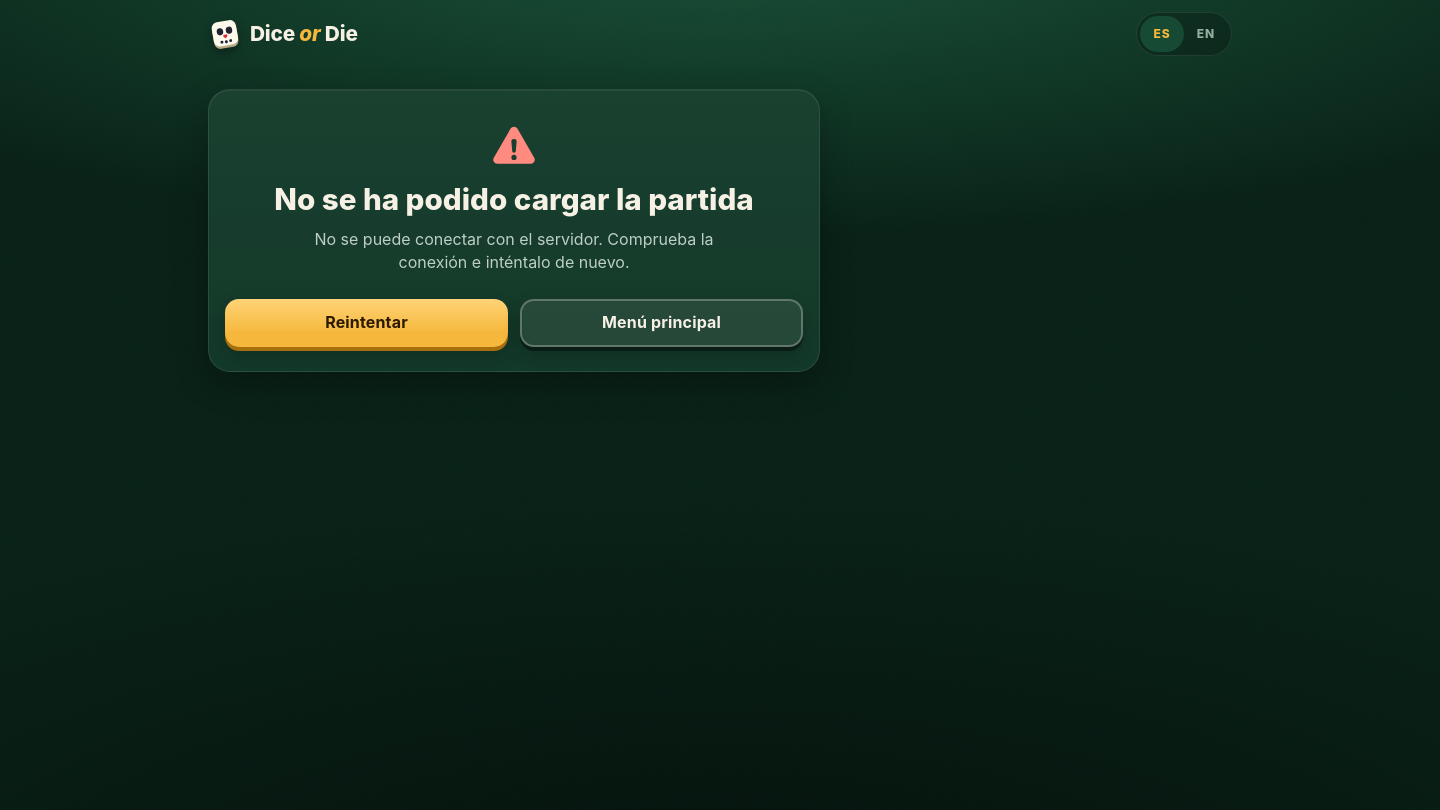
Scenario: si el servidor no responde, deja reintentar la carga
Expected: the heading "No se ha podido cargar la partida" is shown, [274,182,754,216]
Click the button "Reintentar" at (366, 323), box [225,299,508,347]
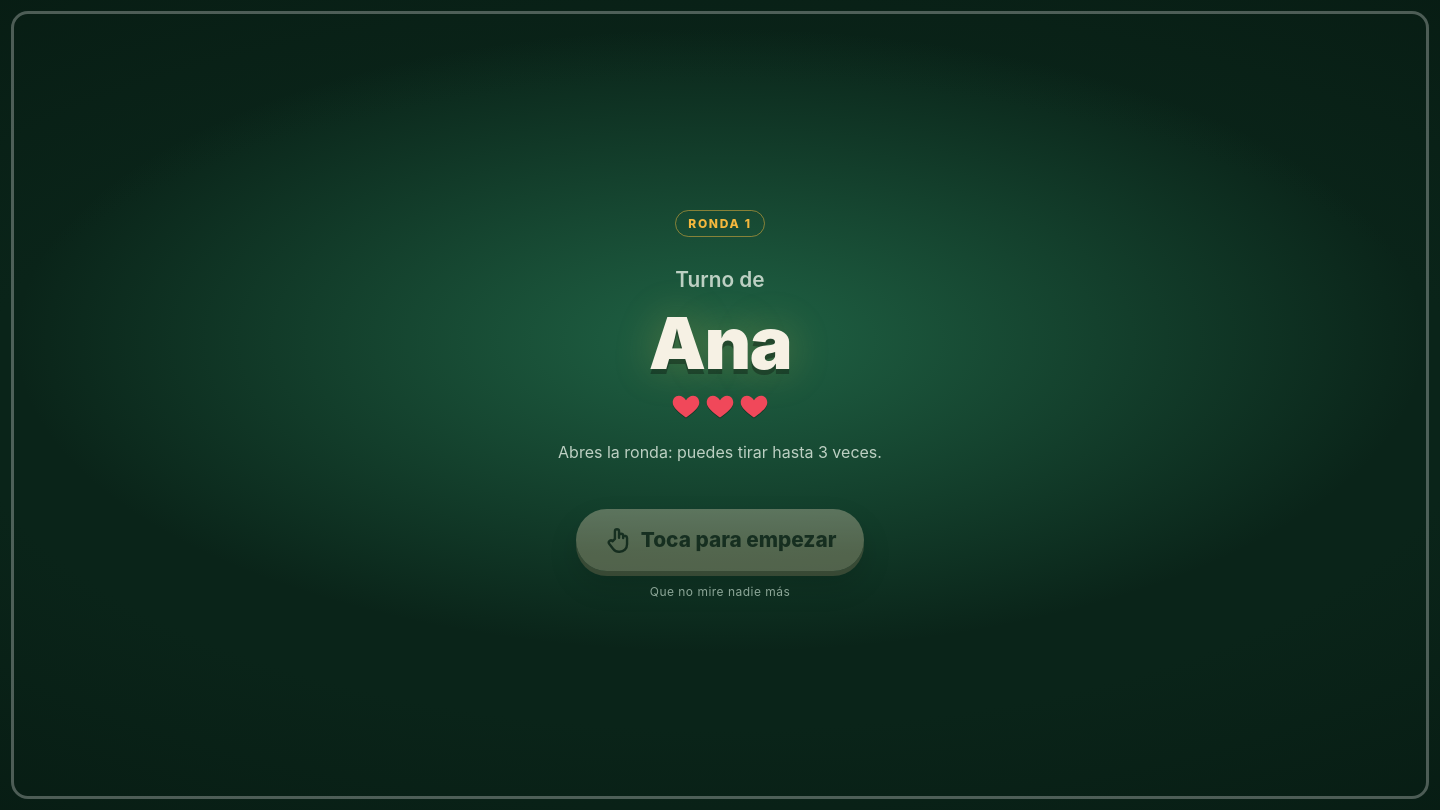
Expected: the button is shown
